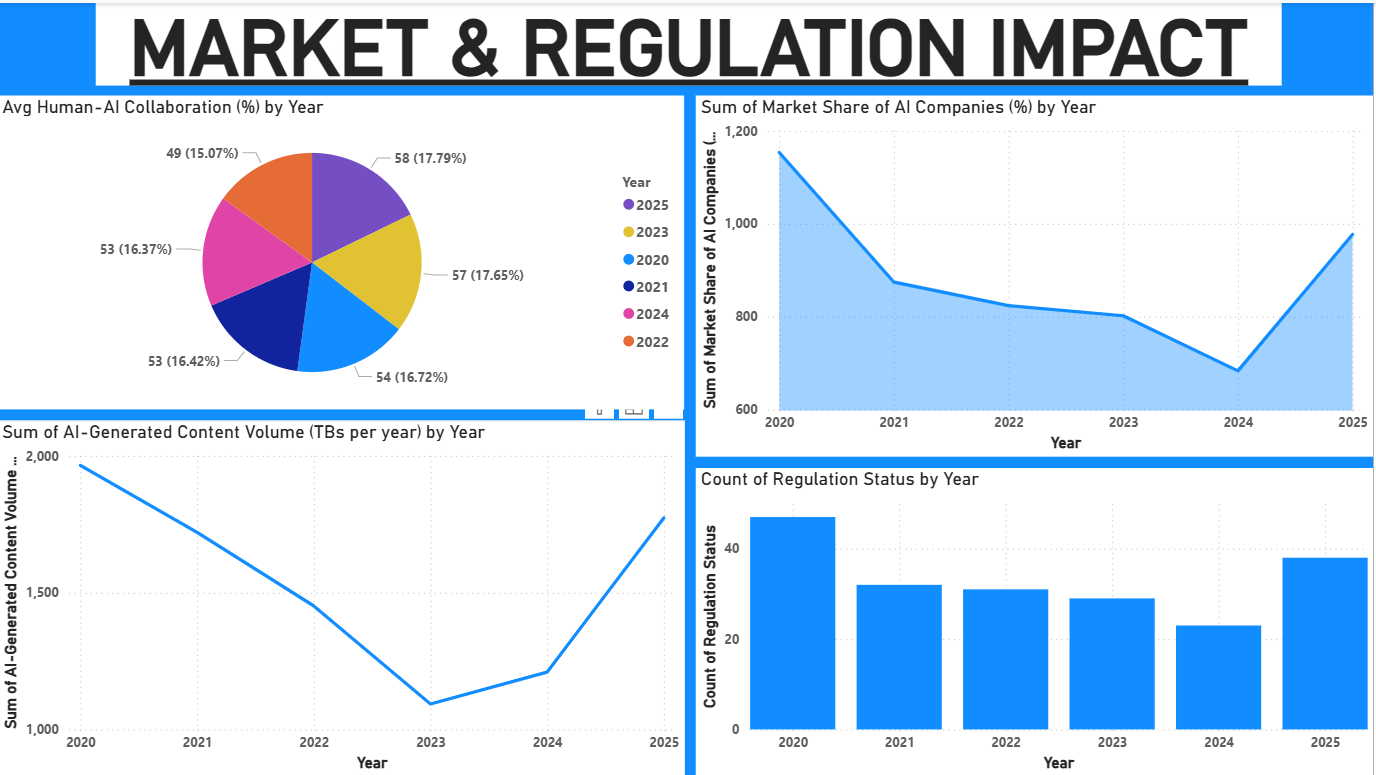

The page's visual inventory and layout, read from the dashboard file:
{"tool":"powerbi","page":{"name":"Page 3","canvas":[1280,720],"ordinal":2},"visuals":[{"type":"lineChart","fields":{"Category":["AI_Impact.Year"],"Y":["Sum(AI_Impact.AI-Generated Content Volume (TBs per year))"]},"box":[0,388.4,639.5,331.4],"z":0},{"type":"pieChart","fields":{"Category":["AI_Impact.Year"],"Y":["AI_Impact.Avg Human-AI Collaboration (%)"]},"box":[0,86,639.5,291.9],"z":1},{"type":"columnChart","fields":{"Category":["AI_Impact.Year"],"Y":["CountNonNull(AI_Impact.Regulation Status)"]},"box":[650,432.6,630.2,287.2],"z":2},{"type":"areaChart","fields":{"Category":["AI_Impact.Year"],"Y":["Sum(AI_Impact.Market Share of AI Companies (%))"]},"box":[650,86,630.2,336],"z":3},{"type":"textbox","title":"MARKET & REGULATION IMPACT","box":[91.9,0,1103.5,76.7],"z":4}]}

Visuals, with their boxes in screenshot pixels (x1, y1, x2, y2), scaled from the page's 1280x720 canvas onto the 1376x775 screenshot:
lineChart - AI_Impact.Year x Sum(AI_Impact.AI-Generated Content Volume (TBs per year)): [0, 418, 687, 774]
pieChart - AI_Impact.Year x AI_Impact.Avg Human-AI Collaboration (%): [0, 93, 687, 407]
columnChart - AI_Impact.Year x CountNonNull(AI_Impact.Regulation Status): [699, 466, 1375, 774]
areaChart - AI_Impact.Year x Sum(AI_Impact.Market Share of AI Companies (%)): [699, 93, 1375, 454]
"MARKET & REGULATION IMPACT" textbox: [99, 0, 1285, 83]
